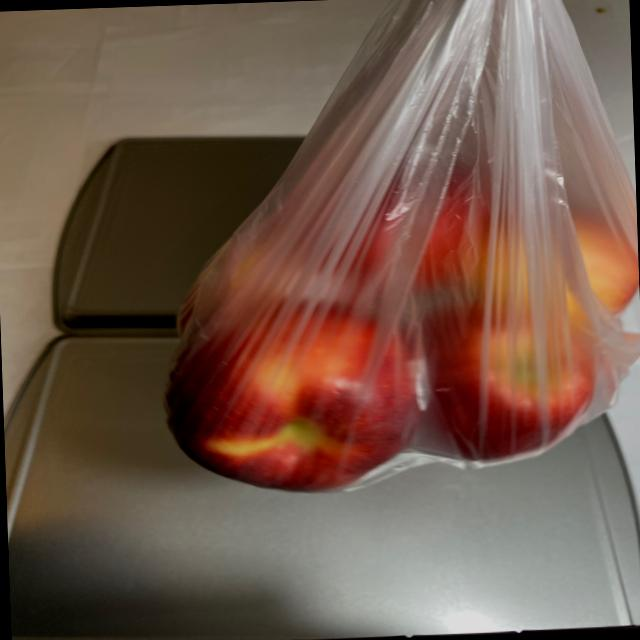apple: (147, 118, 640, 502)
